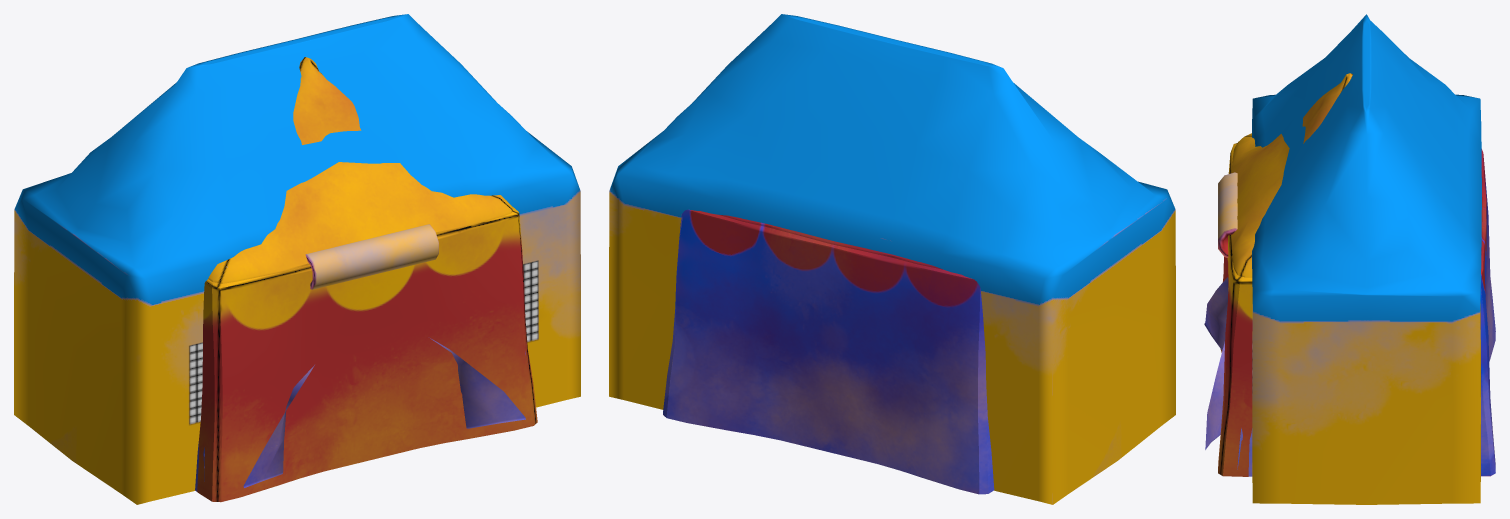
The model's file is tents.fbx.
3 renders of one model, left to right at view 1: azimuth 30°, elevation 25°; view 2: azimuth 150°, elevation 25°; view 3: azimuth 270°, elevation 25°, orthographic. The views are drawn at different scales.
Visible parts, largest first — view 1: Tent_v04, Tent_v01, Tent_v02; view 2: Tent_v04, Tent_v02; view 3: Tent_v04, Tent_v01, Tent_v02.
Boxes of the visible parts, box(x1,y1,x2,y2) form: Tent_v04: box(14, 14, 580, 504); Tent_v01: box(197, 57, 537, 502); Tent_v02: box(195, 338, 525, 491); Tent_v04: box(609, 14, 1175, 504); Tent_v02: box(663, 209, 994, 494); Tent_v04: box(1218, 14, 1481, 504); Tent_v01: box(1218, 73, 1352, 476); Tent_v02: box(1204, 149, 1495, 476).
Bounding box in the file's own units: 39.96 × 30.9 × 24.12.
Materials: 1 (1 with a texture image).
